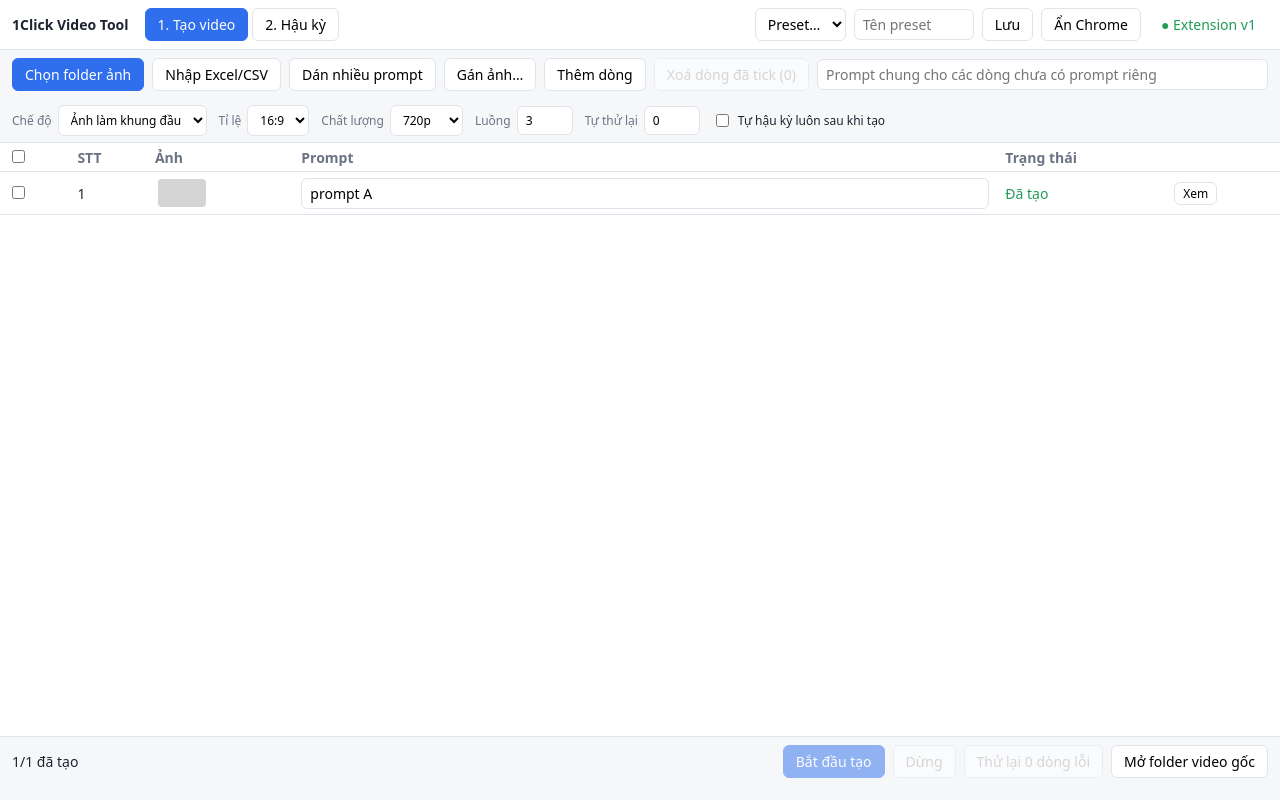
Test: two-step app keeps ordered, scoped preset edits › stays on step 1 when the navigation flush fails
Select "1080p" in the dropdown labelled "Chất lượng" at x=426, y=120, box x1=390 y1=105 x2=463 y2=136
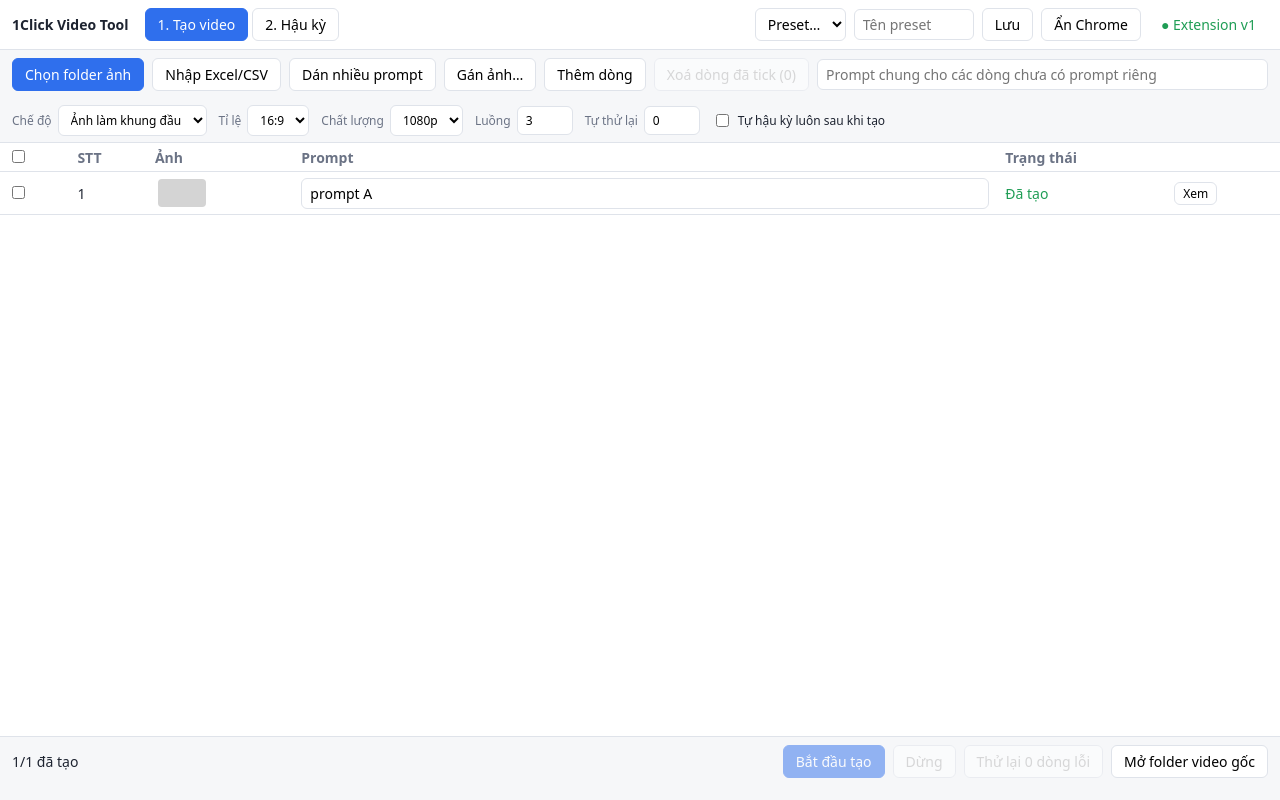
Click the button "2. Hậu kỳ" at x=296, y=24, box x1=252 y1=8 x2=339 y2=41
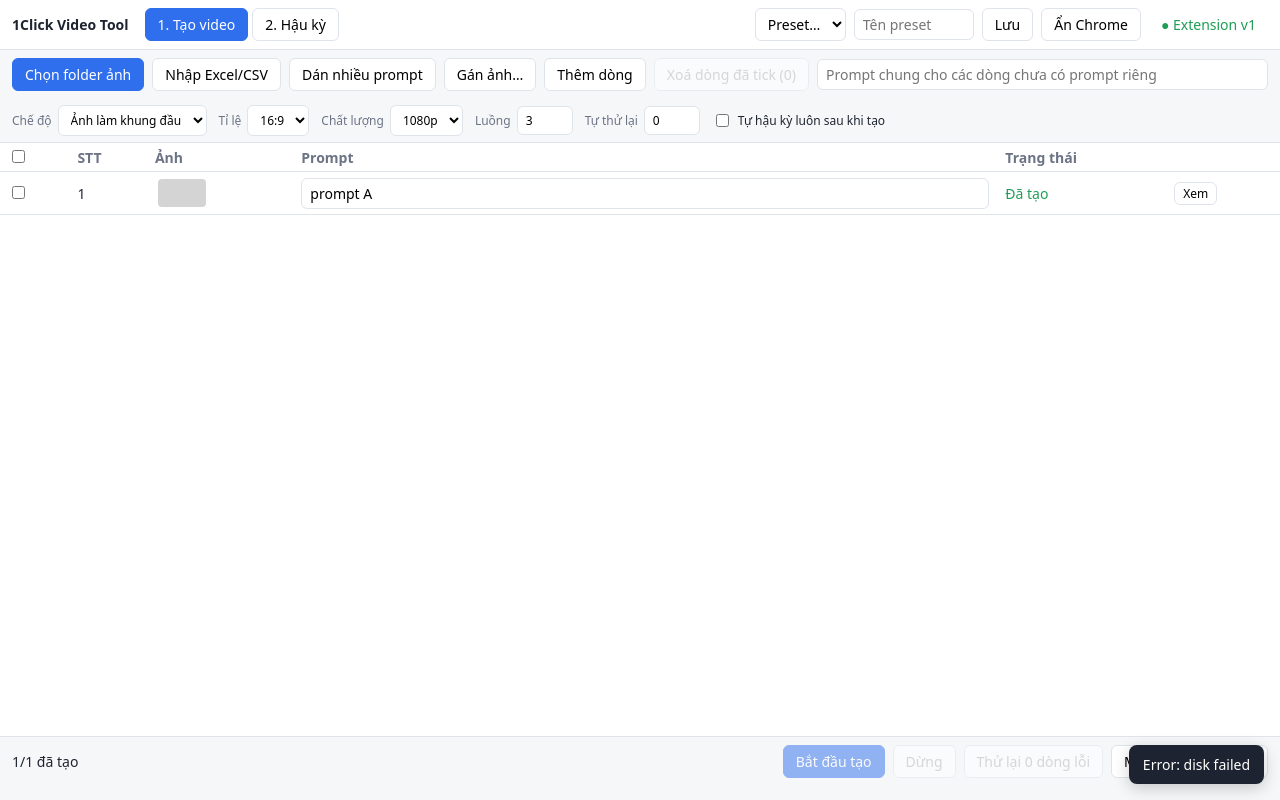
Check: the text "Bắt đầu tạo" is shown, box x1=783 y1=745 x2=885 y2=778
Check: the text "disk failed" is shown, box x1=1143 y1=755 x2=1250 y2=774
